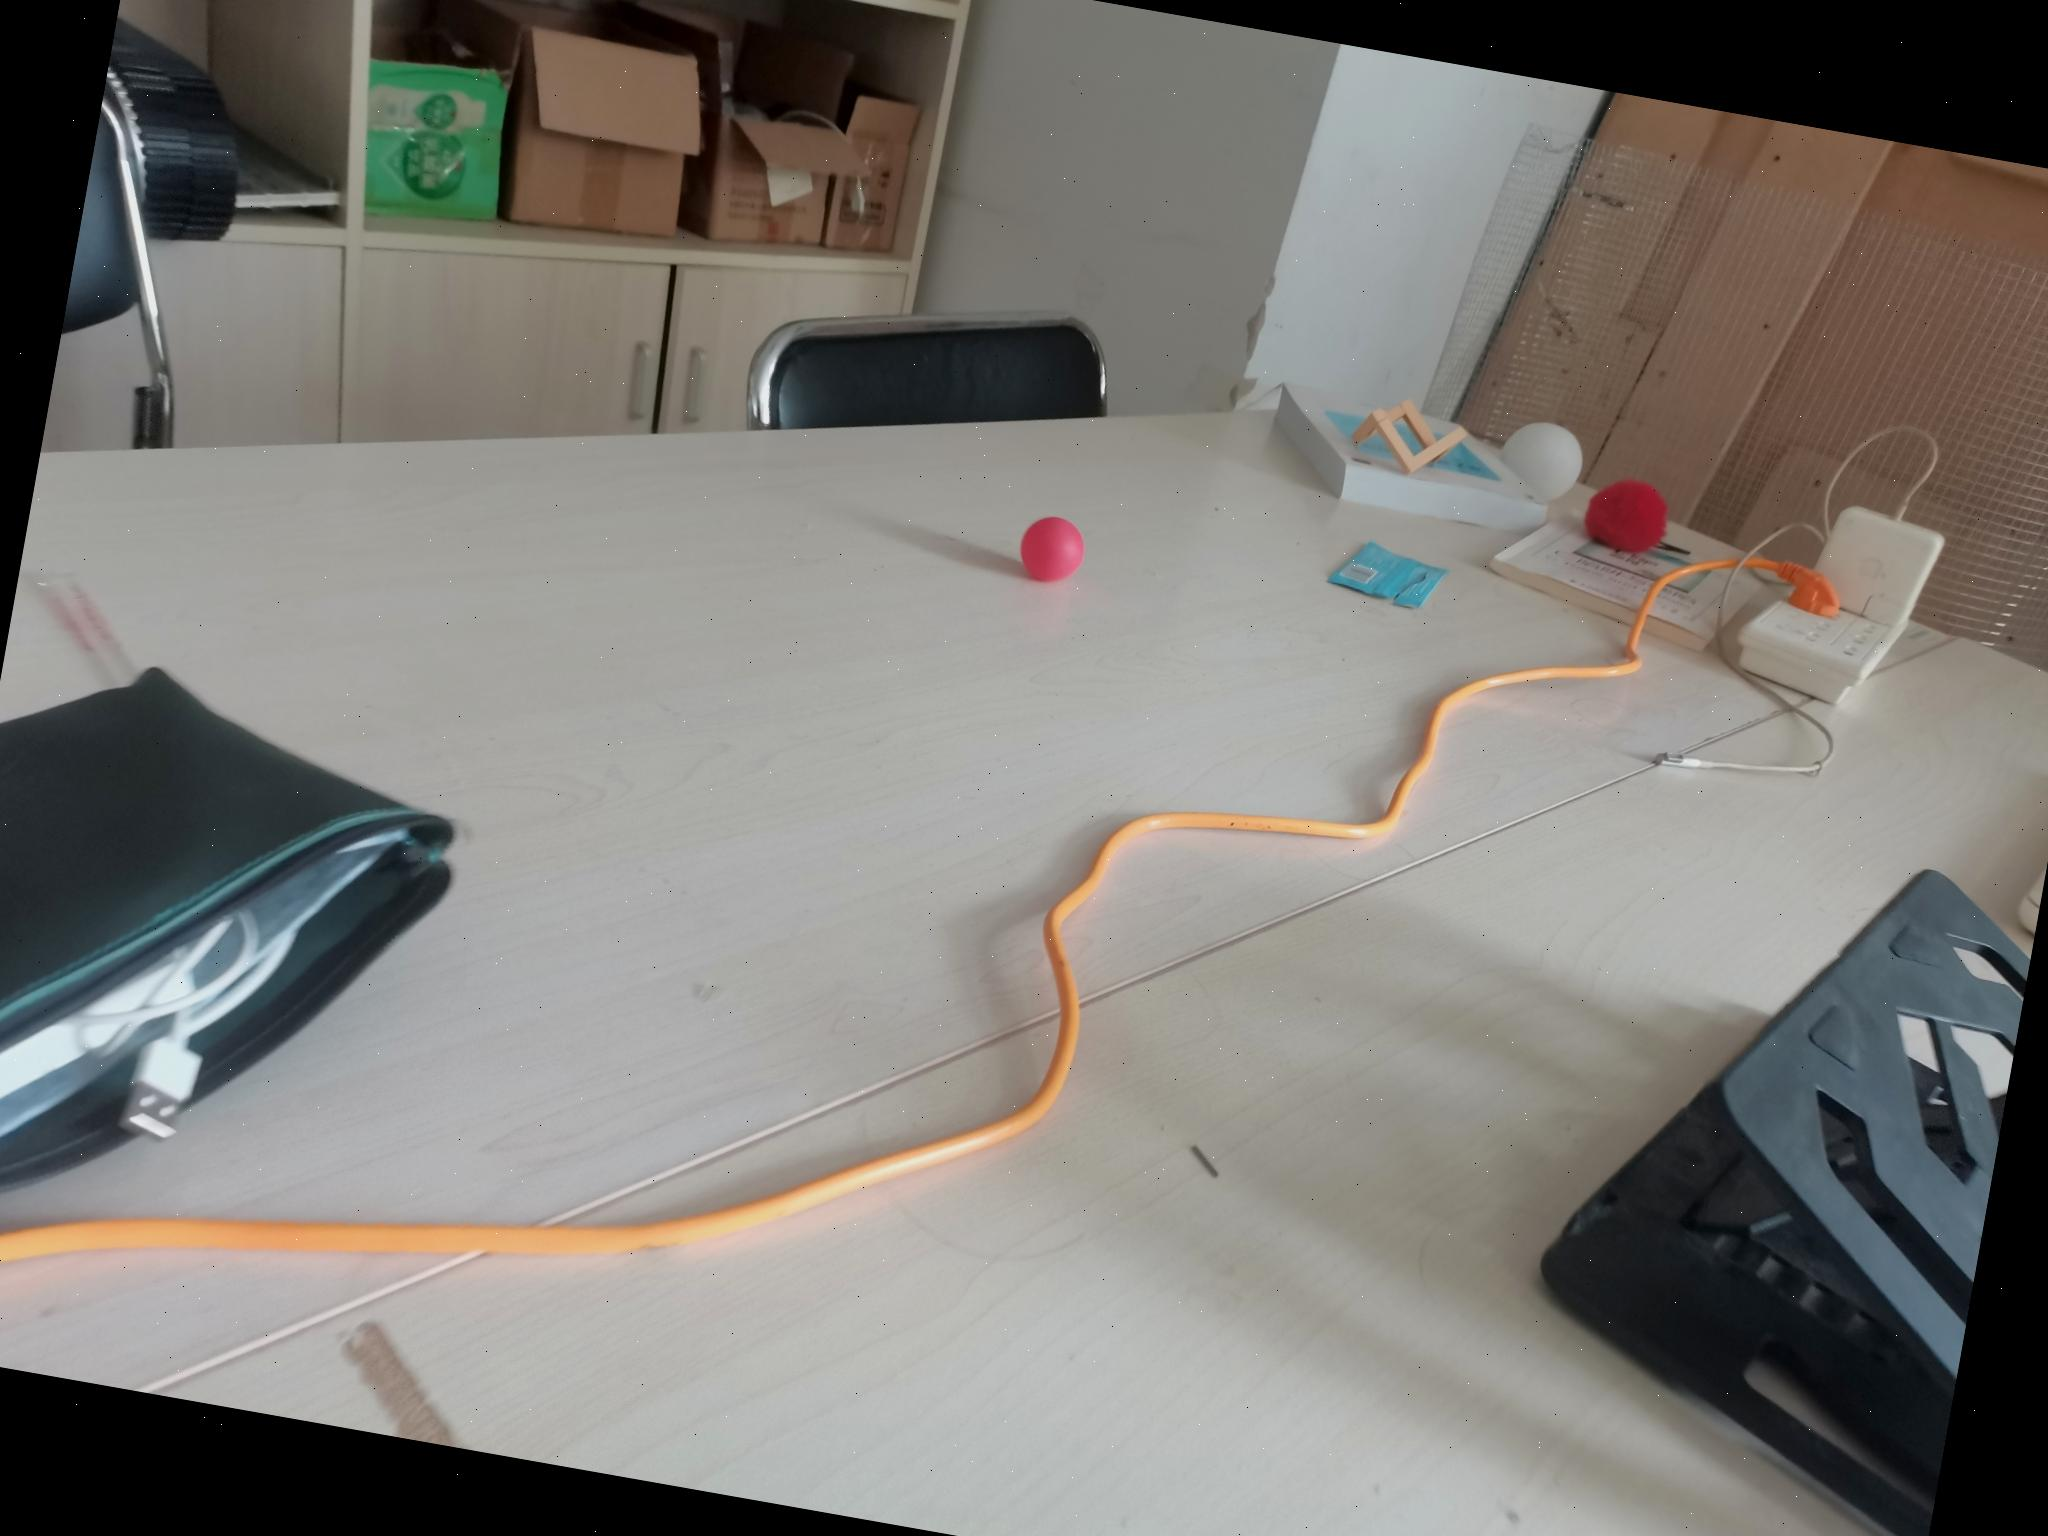ball: (1013, 513, 1093, 587)
